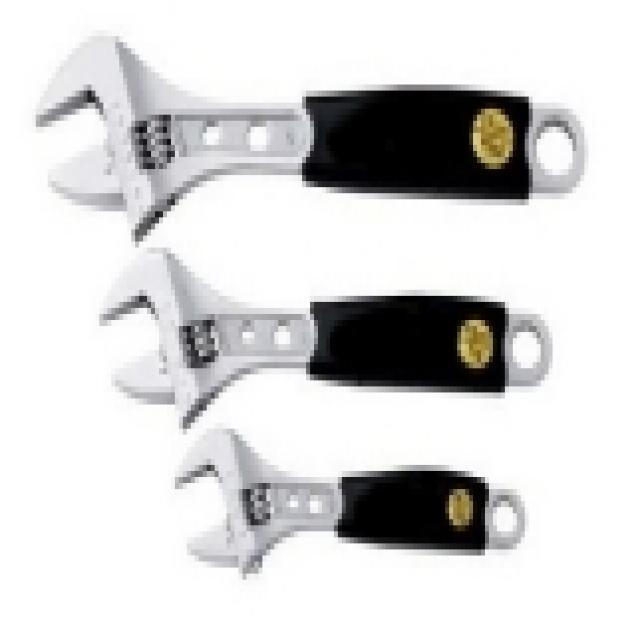wrench: (29, 27, 596, 250), (94, 244, 558, 432), (170, 422, 530, 582)
